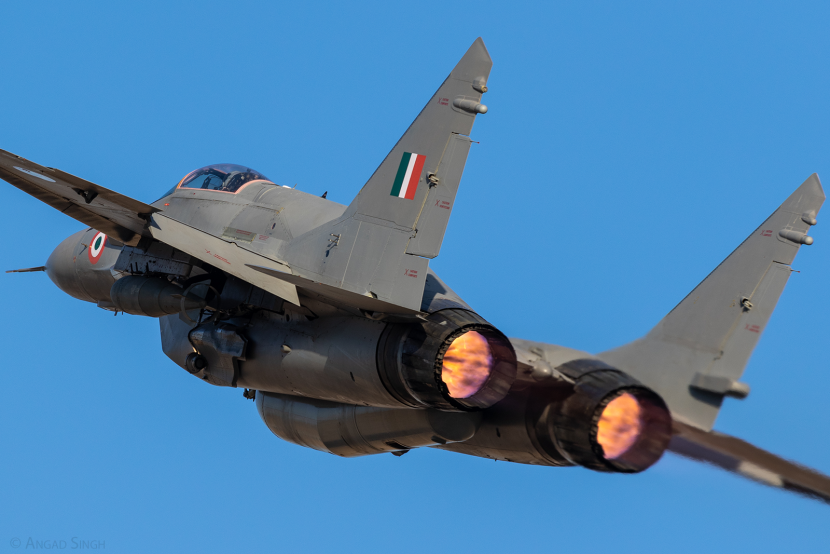Mig-29: (3, 32, 830, 525)
